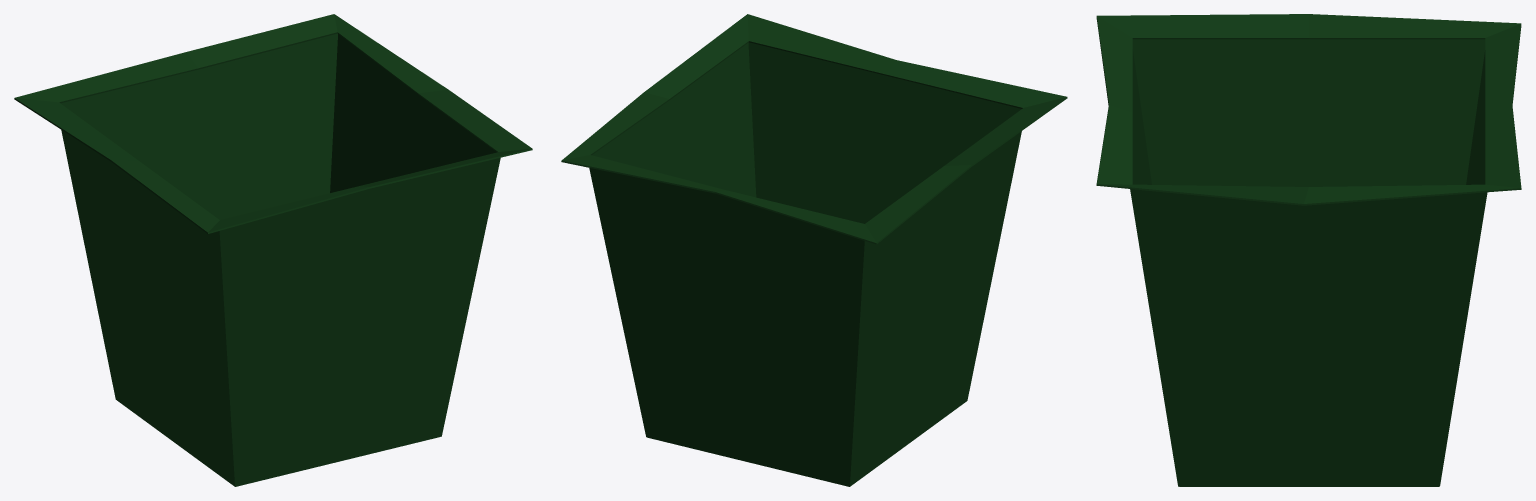
The model's file is trash.fbx.
3 views of the same model, side by side, from view 1: azimuth 30°, elevation 25°; view 2: azimuth 150°, elevation 25°; view 3: azimuth 270°, elevation 25° (orthographic). The views are drawn at different scales.
Visible parts, largest first — view 1: Cube; view 2: Cube; view 3: Cube.
Part boxes in pixels (x1,y1,x2,y2): Cube: [14, 14, 532, 486]; Cube: [561, 14, 1067, 486]; Cube: [1096, 14, 1521, 486].
Size of the model in its own units: 238 by 205 by 239.
